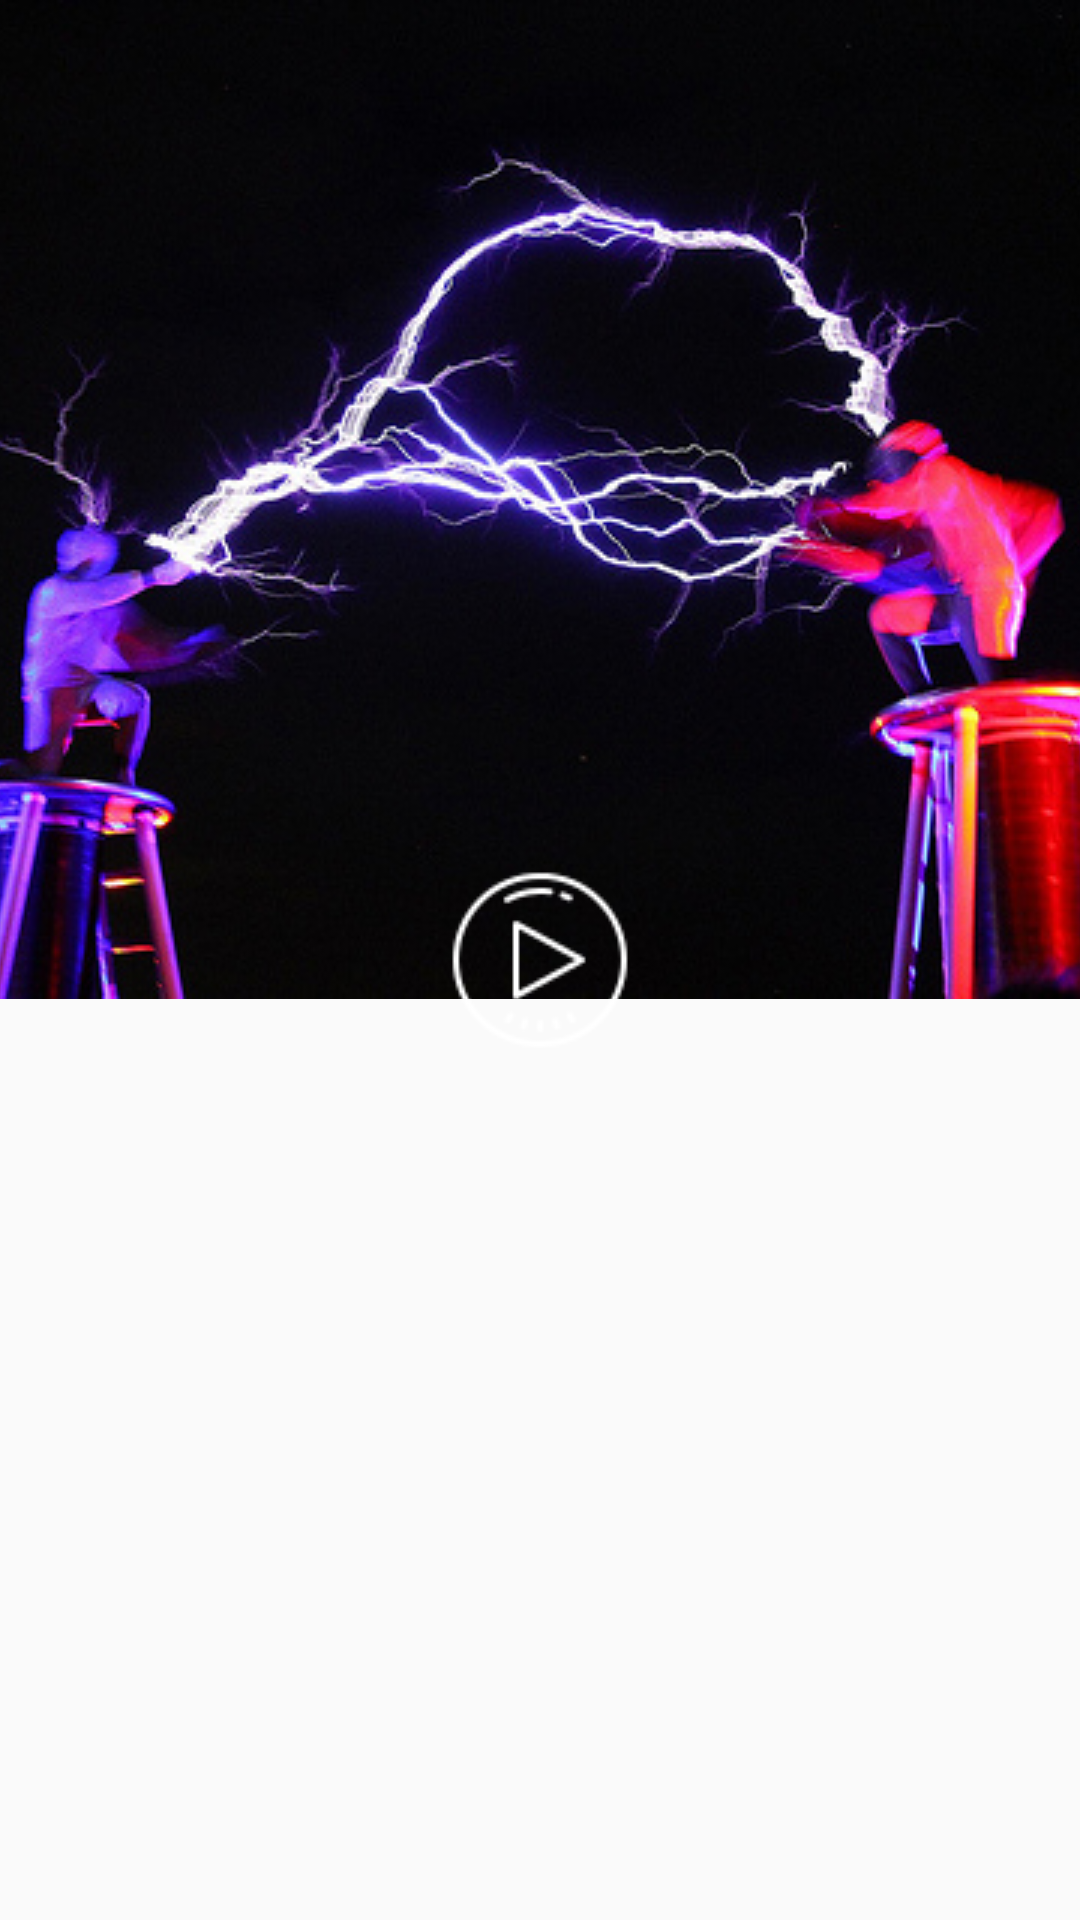

Point at icon controls on the screen. Image size 1080x1920, points as (x,y).
Play Button: (540,960)
